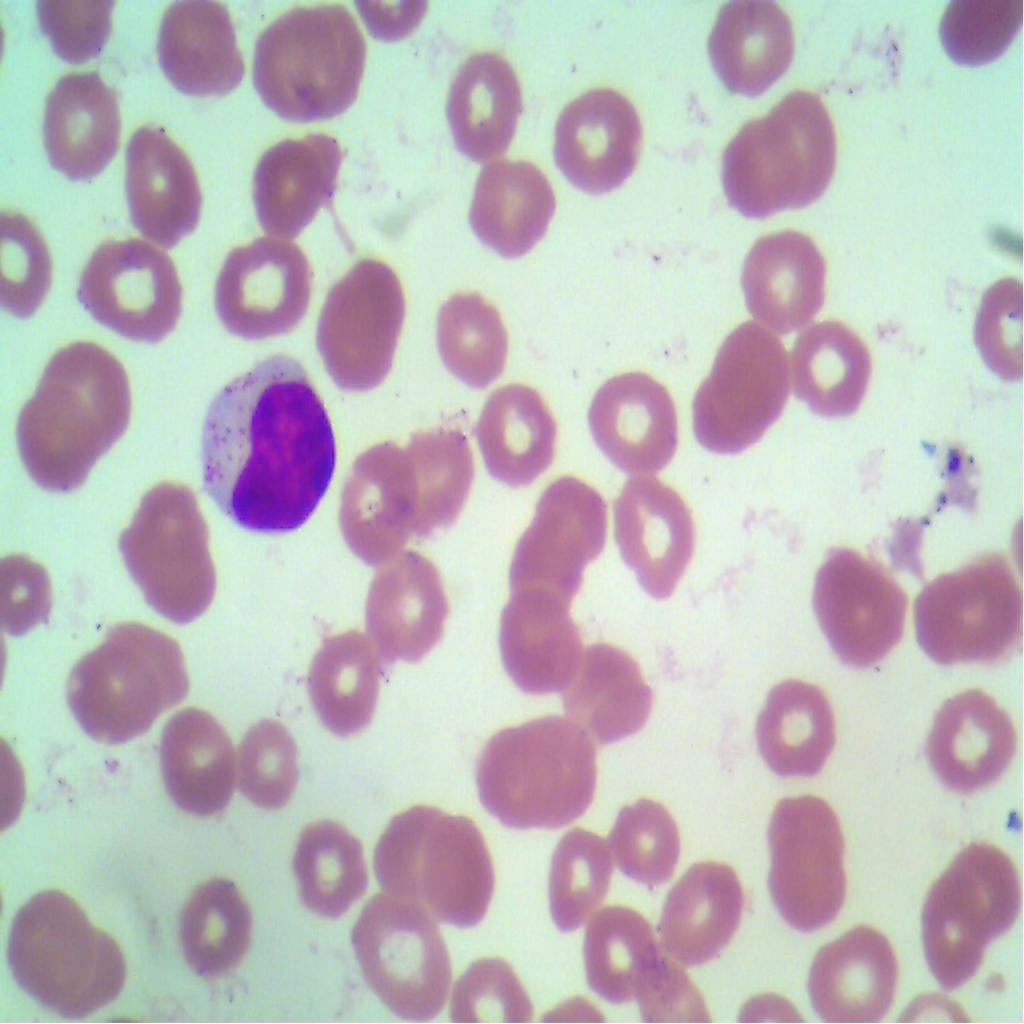Eritrosit: (118, 481, 228, 630), (806, 536, 916, 678), (254, 1, 368, 130), (684, 324, 786, 467), (316, 248, 413, 394), (75, 237, 193, 351), (479, 712, 595, 826), (915, 554, 1023, 674), (618, 468, 704, 614), (338, 432, 424, 577), (351, 897, 451, 1019), (211, 225, 316, 340), (552, 88, 658, 200), (802, 906, 903, 1023), (254, 127, 356, 242), (135, 0, 250, 100), (115, 118, 203, 246), (573, 368, 679, 474), (356, 548, 454, 662), (931, 691, 1023, 809), (783, 310, 875, 428), (38, 70, 128, 189), (388, 412, 474, 534), (439, 48, 533, 159), (658, 850, 743, 972), (282, 807, 370, 924), (498, 585, 586, 702), (153, 704, 235, 829), (293, 621, 379, 740), (762, 84, 840, 214), (736, 225, 828, 334), (34, 346, 132, 448), (698, 0, 797, 100), (466, 150, 558, 257), (6, 884, 86, 1007), (558, 646, 658, 744), (103, 622, 195, 724), (429, 276, 511, 390), (538, 815, 612, 941), (601, 792, 686, 900), (11, 390, 95, 497), (63, 642, 151, 741), (366, 799, 451, 901), (575, 904, 663, 1002), (718, 117, 800, 222), (756, 669, 830, 785), (421, 821, 499, 930), (174, 874, 248, 988), (760, 837, 850, 930), (234, 715, 310, 821), (941, 836, 1023, 934), (46, 928, 128, 1023), (0, 201, 64, 321), (506, 519, 586, 610), (483, 378, 554, 479), (922, 877, 983, 994), (966, 264, 1024, 378), (531, 475, 609, 558), (444, 950, 529, 1023), (769, 794, 844, 872), (0, 554, 63, 641)
Limfosit: (190, 351, 341, 544)
